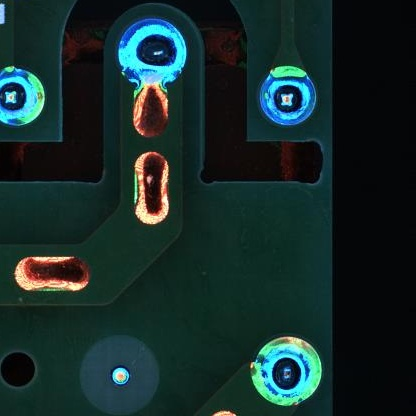spot: (252, 337, 323, 405), (119, 18, 186, 82), (258, 63, 317, 127), (1, 64, 45, 128)
